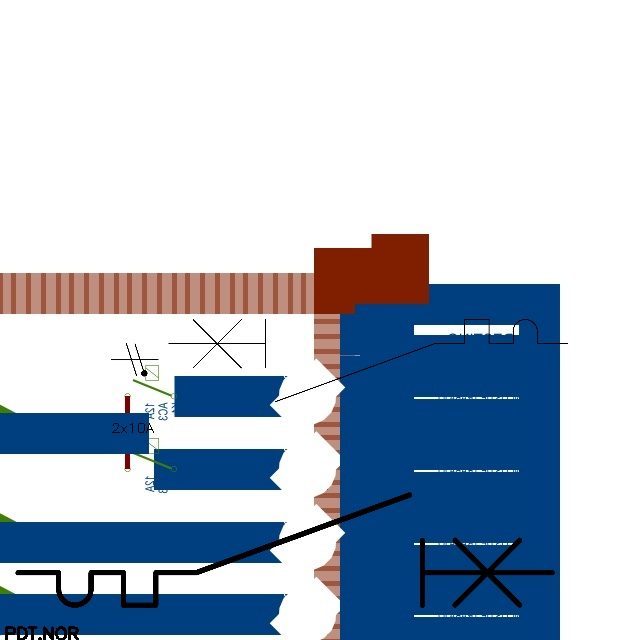interruptor_termomagnetico: (4, 481, 566, 619), (158, 309, 578, 412)
